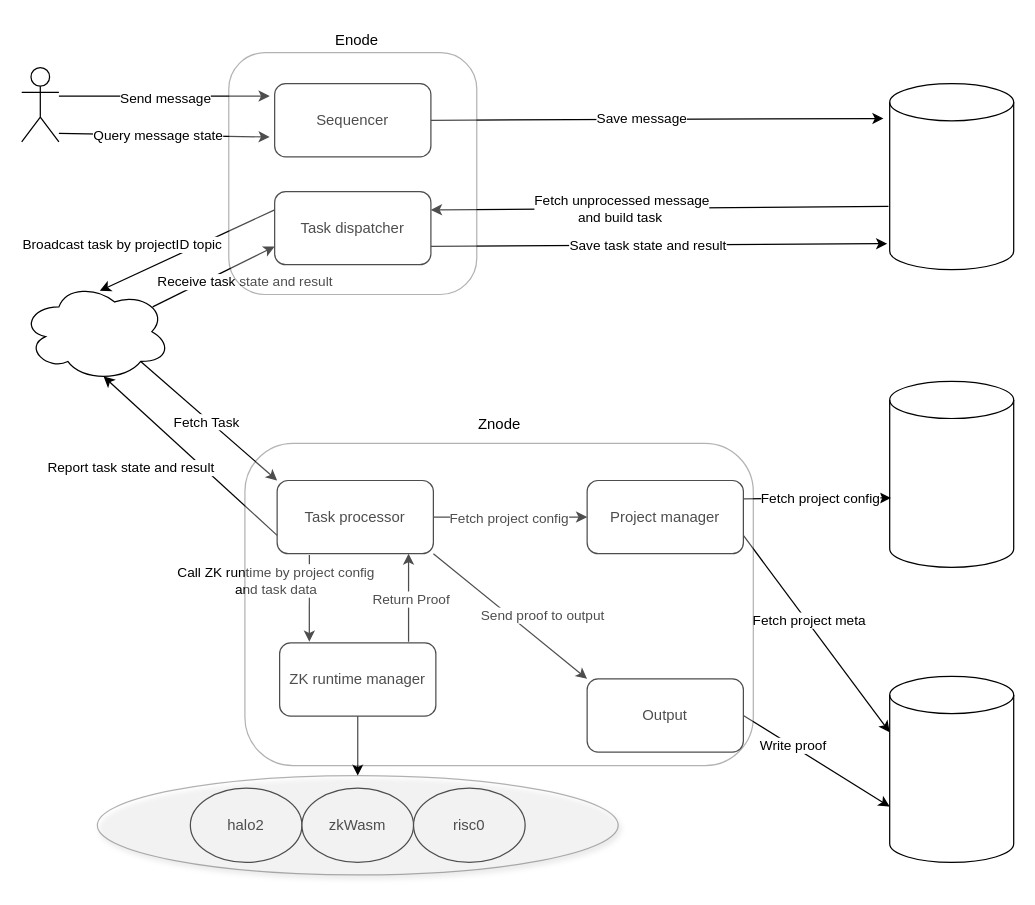
Some shapes in this 1035 by 905 pixel diagram are drawn without their labels. Here are the shapes that lost their labels. From the top down, the centre of each, then its label:
the point at 39,104: User
the point at 951,176: Data availability
the point at 95,331: P2P network
the point at 951,473: IPFS
the point at 951,768: Chain contract
